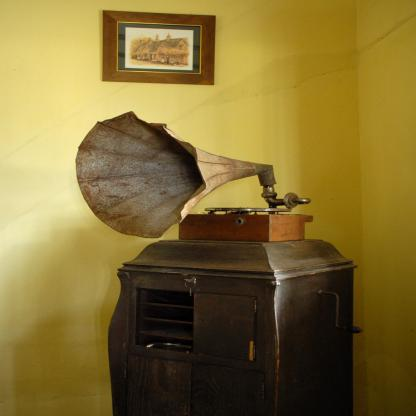Picture-frame: (101, 8, 216, 88)
